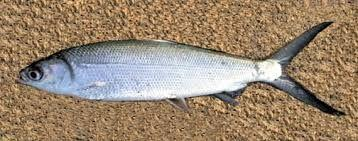Bangus: (15, 22, 348, 115)
